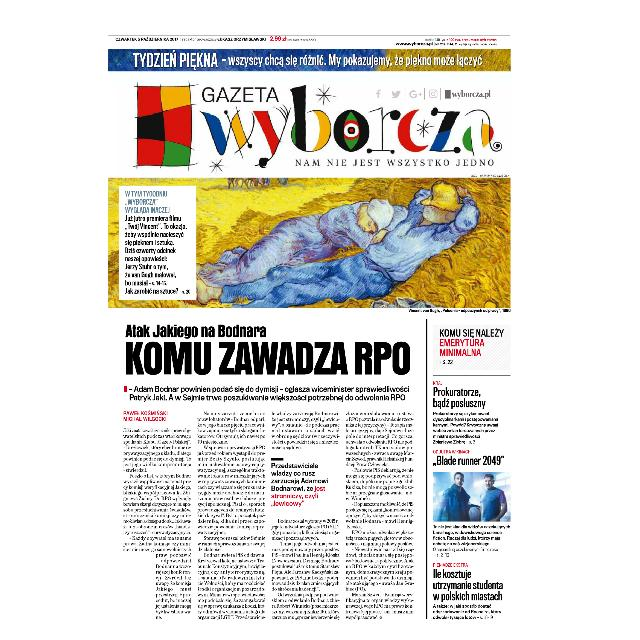article: (121, 322, 415, 624)
